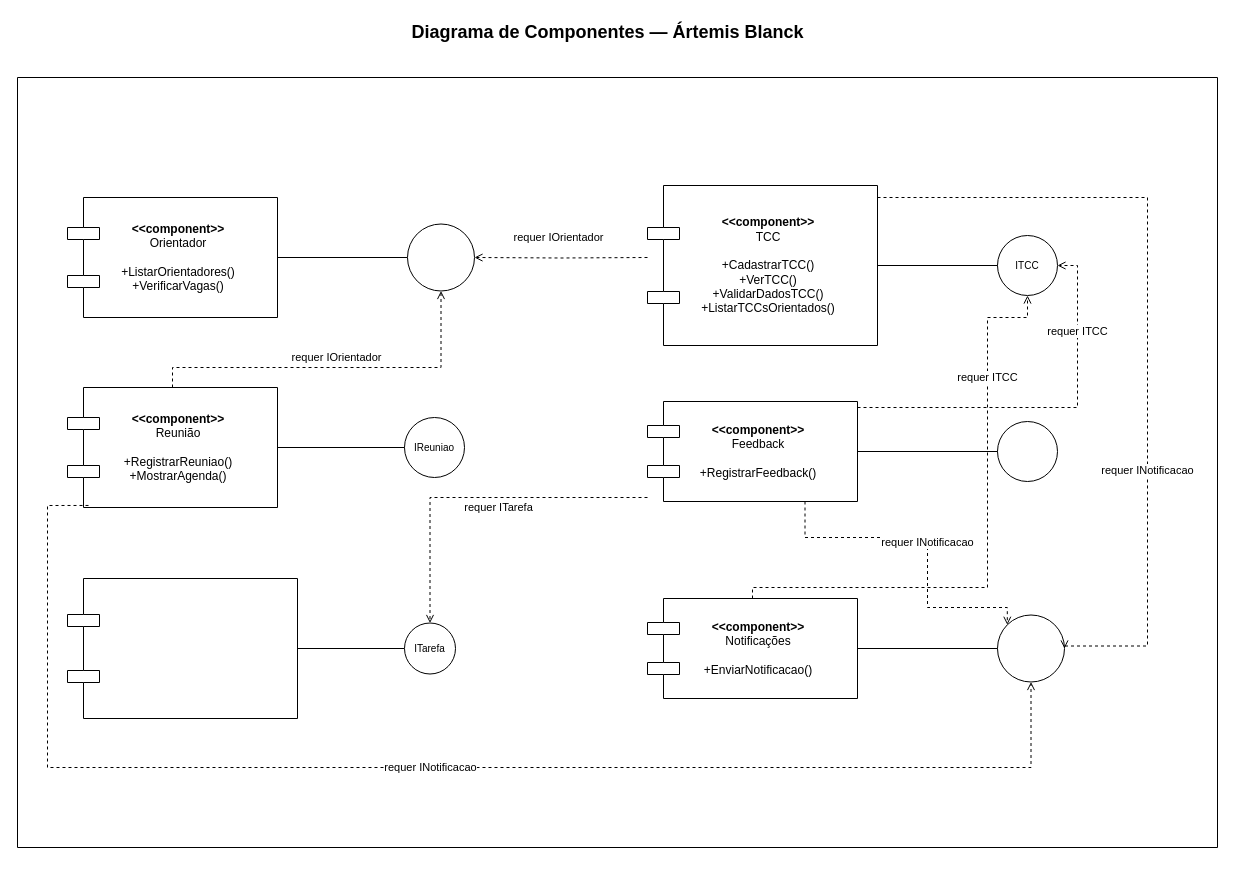
Image size: 1235x873. Some labels were removed from this diagram. The centre of each missing label's shape, as x and y in pixels:
<<component>> Tarefa +MostrarTarefas() +ValidarDadosTarefa() +CriarTarefa(): the point at 182,648
IFeedback: the point at 1027,451
INotificacao: the point at 1030,648
IOrientador: the point at 440,257
